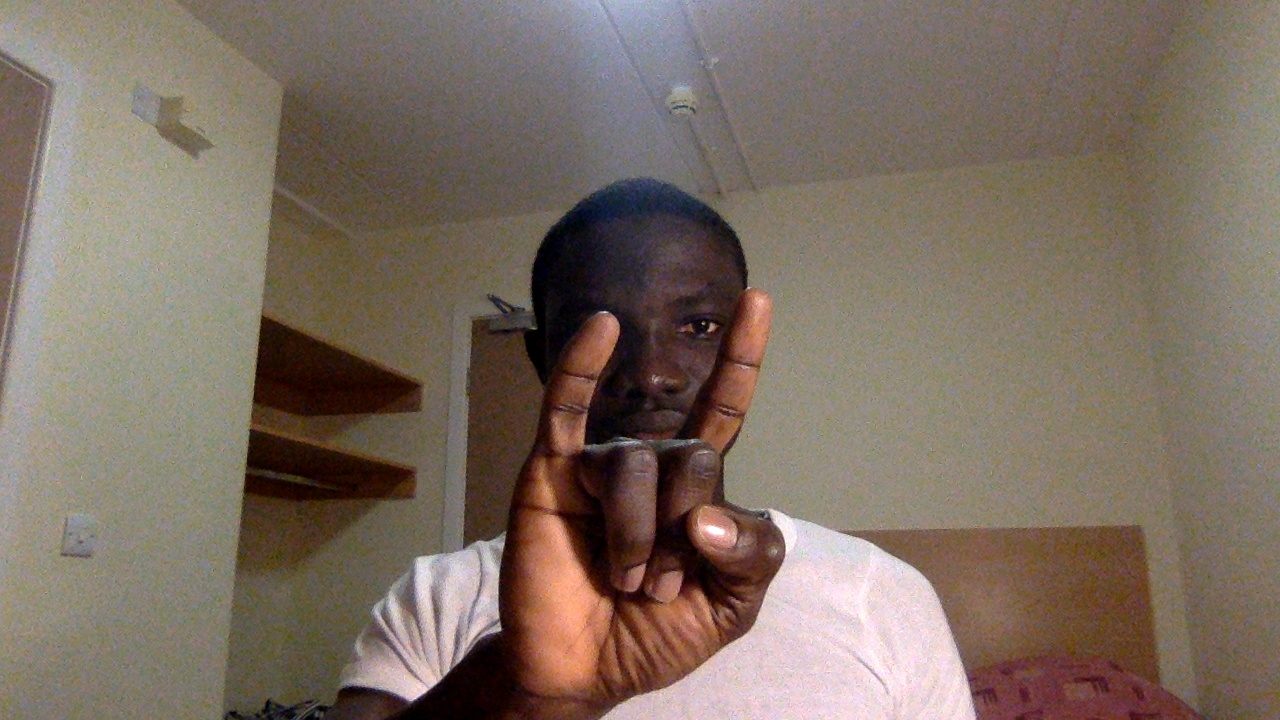I Love You: (498, 282, 794, 720)
